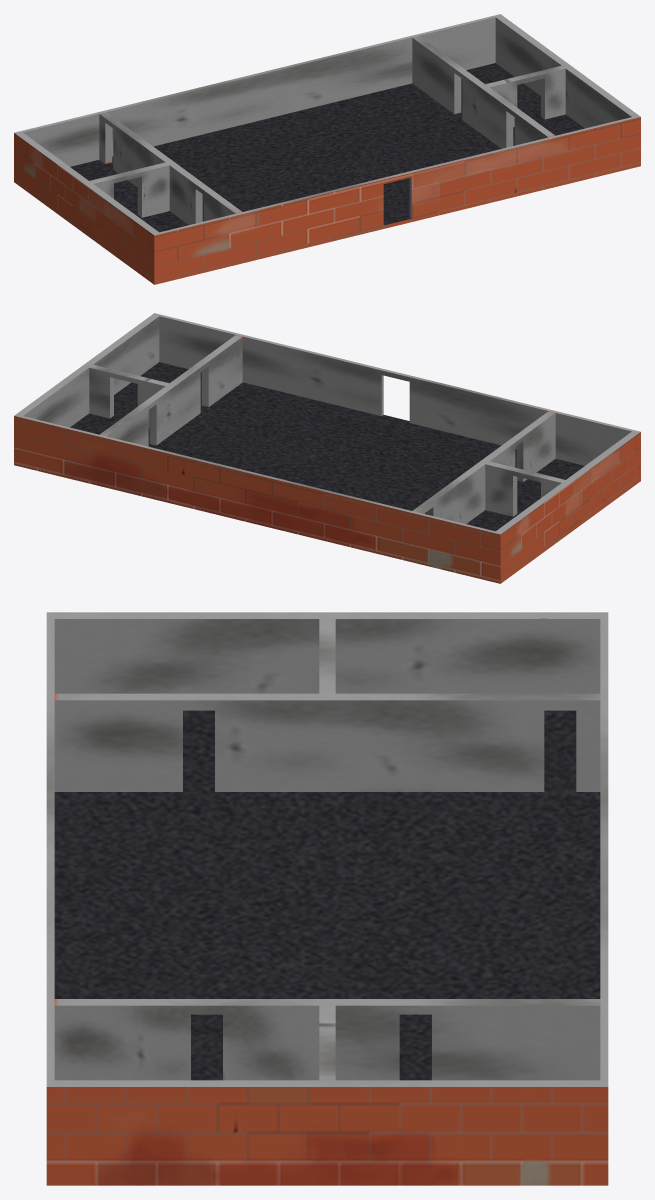
The model's file is Warehouse Floor 1.FBX.
3 renders of one model, top to bottom at view 1: azimuth 30°, elevation 25°; view 2: azimuth 150°, elevation 25°; view 3: azimuth 270°, elevation 25°, orthographic. The views are drawn at different scales.
Parts seen in each view (by area): view 1: Floor 1; view 2: Floor 1; view 3: Floor 1.
Part boxes in pixels (bbox=[...]): Floor 1: bbox=[14, 14, 640, 284]; Floor 1: bbox=[14, 313, 640, 583]; Floor 1: bbox=[46, 612, 608, 1185].
Bounding box in the file's own units: 100000 × 9700 × 50000.
1 material, 1 textured.
